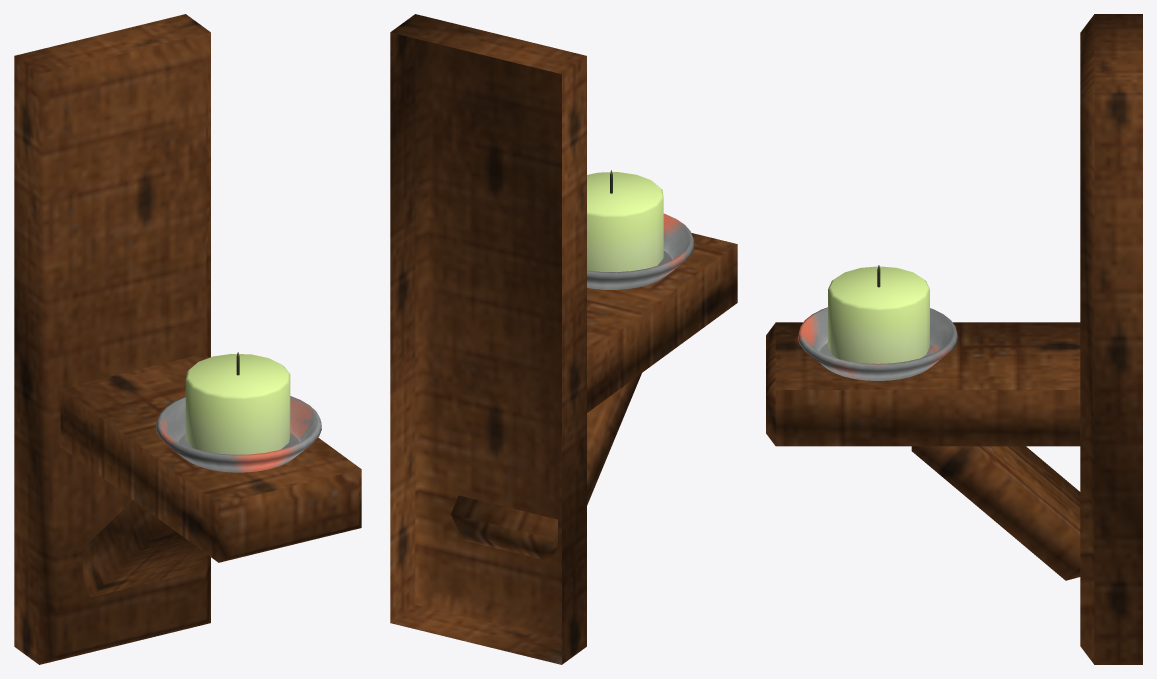
Rendered from Vela de parede.fbx.
3 views of the same model, side by side, from view 1: azimuth 30°, elevation 25°; view 2: azimuth 150°, elevation 25°; view 3: azimuth 270°, elevation 25° (orthographic). The views are drawn at different scales.
Parts seen in each view (by area): view 1: Suporte Vela; view 2: Suporte Vela; view 3: Suporte Vela.
Part boxes in pixels (x1,y1,x2,y2): Suporte Vela: (14, 14, 361, 664); Suporte Vela: (390, 14, 737, 664); Suporte Vela: (766, 14, 1142, 664).
Bounding box in the file's own units: 60.81 × 200 × 120.
1 material, 1 textured.
